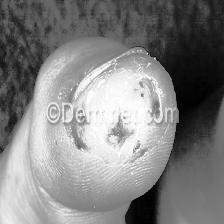Non-Cancerous Skin Condition: (73, 88, 159, 165)
